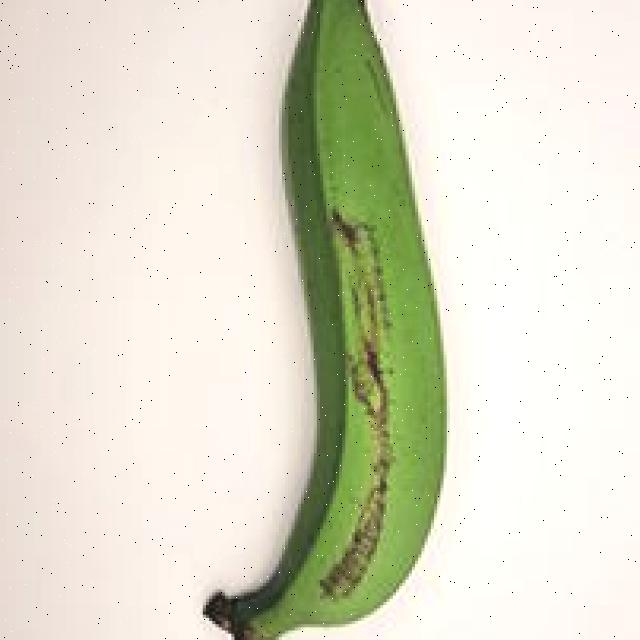Raw: (187, 0, 472, 640)
